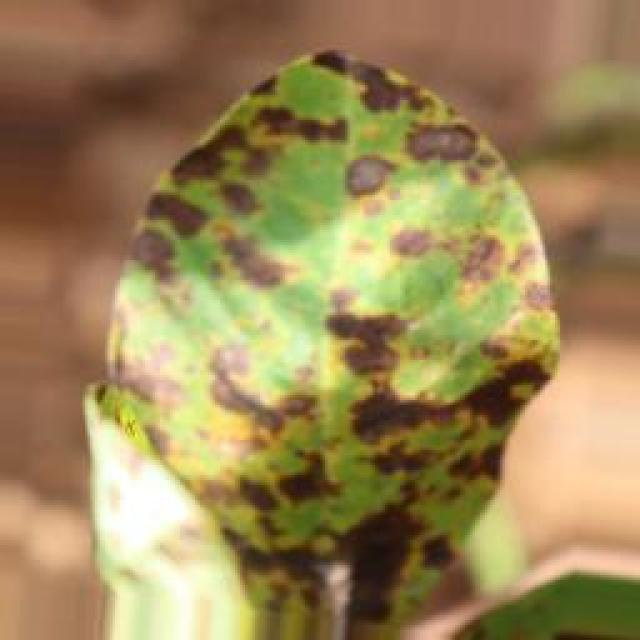Yellowish: (96, 30, 554, 612)
